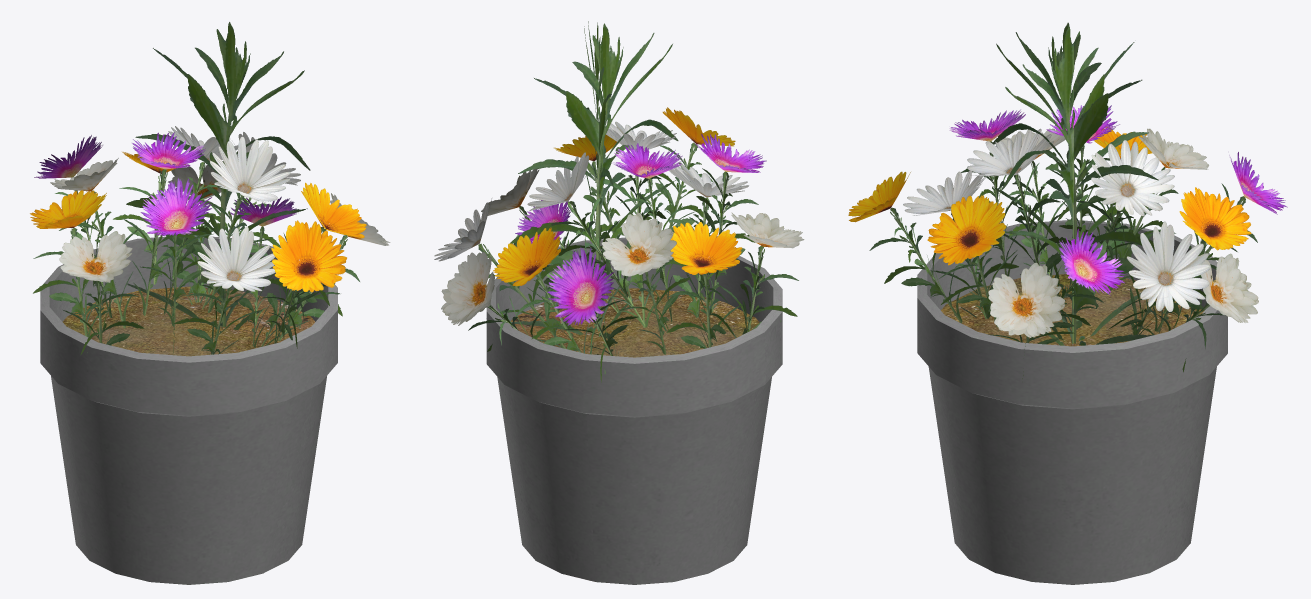
The model's file is SM_Flower_Pot_02.glb.
3 views of the same model, side by side, from view 1: azimuth 30°, elevation 25°; view 2: azimuth 150°, elevation 25°; view 3: azimuth 270°, elevation 25° (orthographic). The views are drawn at different scales.
Parts seen in each view (by area): view 1: SM_Flower_Pot_02; view 2: SM_Flower_Pot_02; view 3: SM_Flower_Pot_02.
Part boxes in pixels (x1,y1,x2,y2): SM_Flower_Pot_02: [30, 22, 390, 584]; SM_Flower_Pot_02: [434, 21, 804, 584]; SM_Flower_Pot_02: [848, 22, 1287, 584].
Bounding box in the file's own units: 0.6082 × 0.8983 × 0.7011.
Materials: 1 (1 with a texture image).
